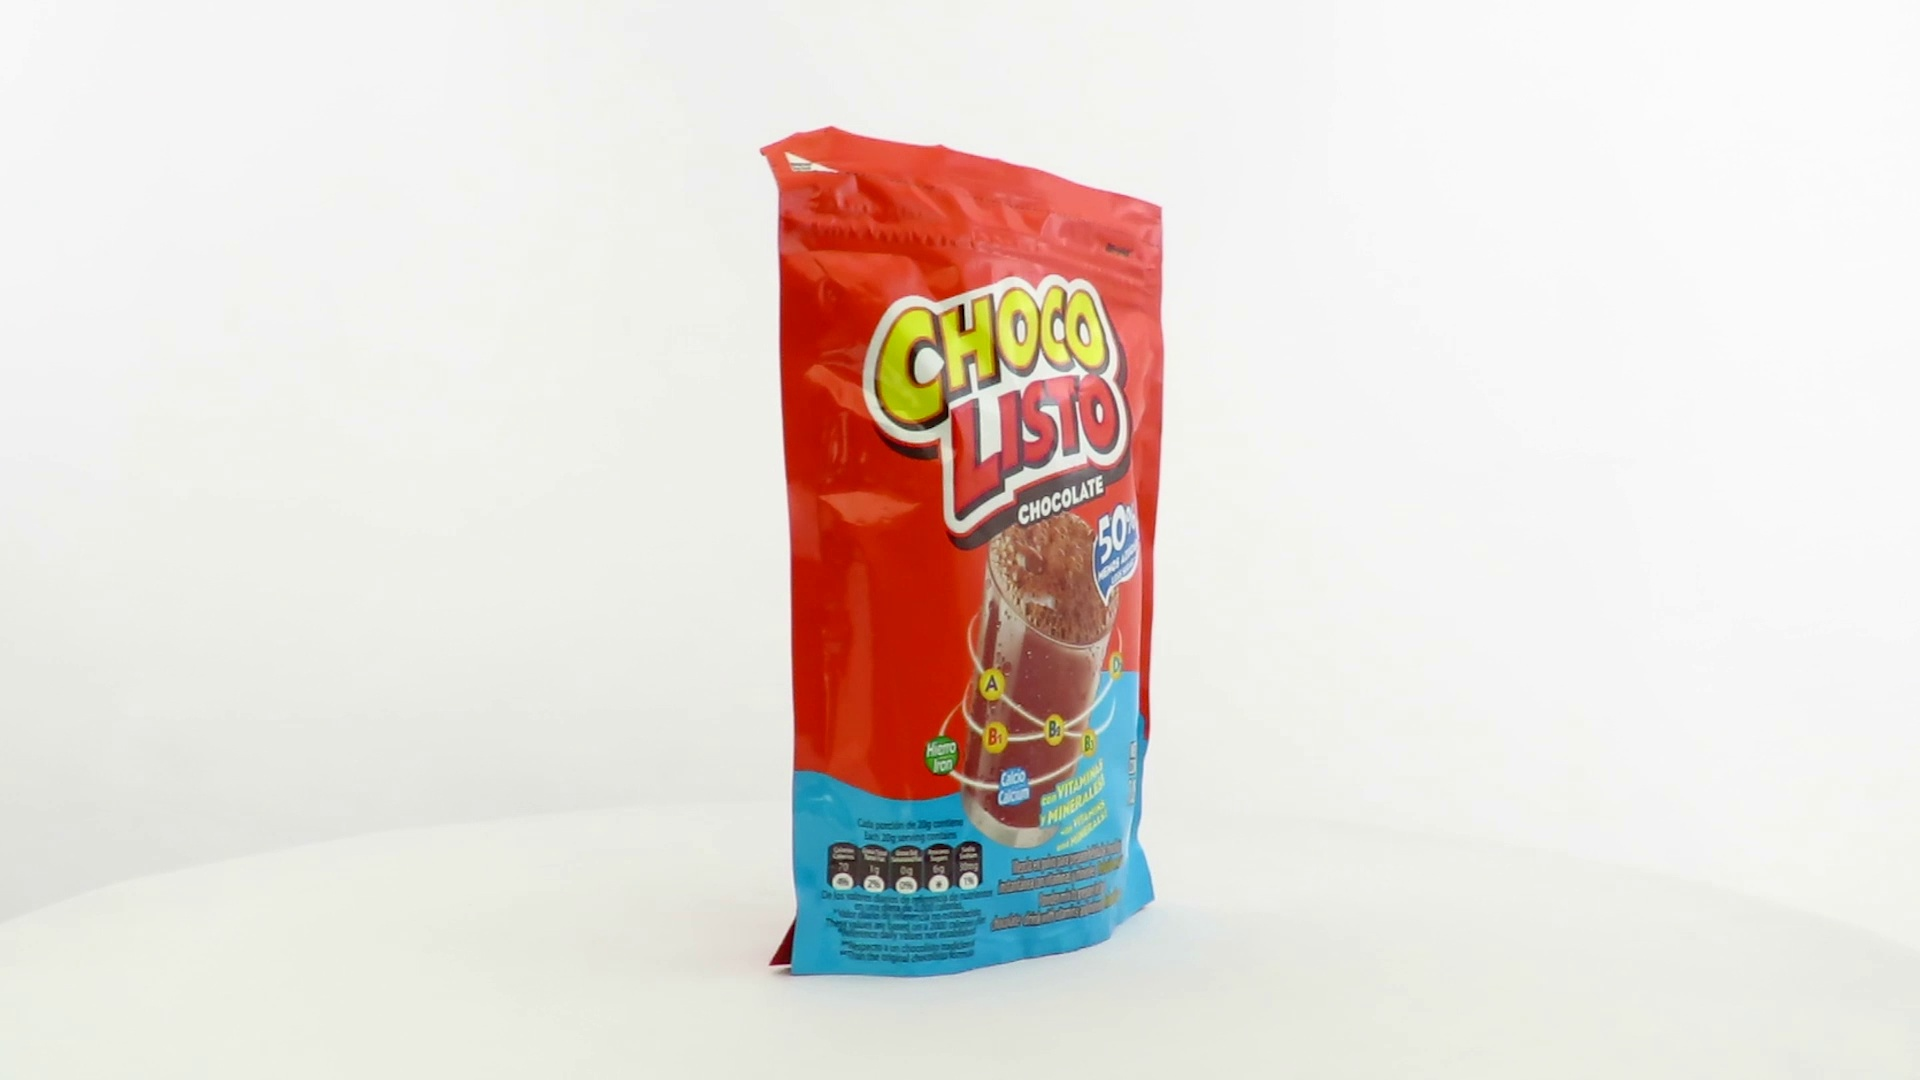COL0170104DYP20000: (756, 121, 1170, 984)
